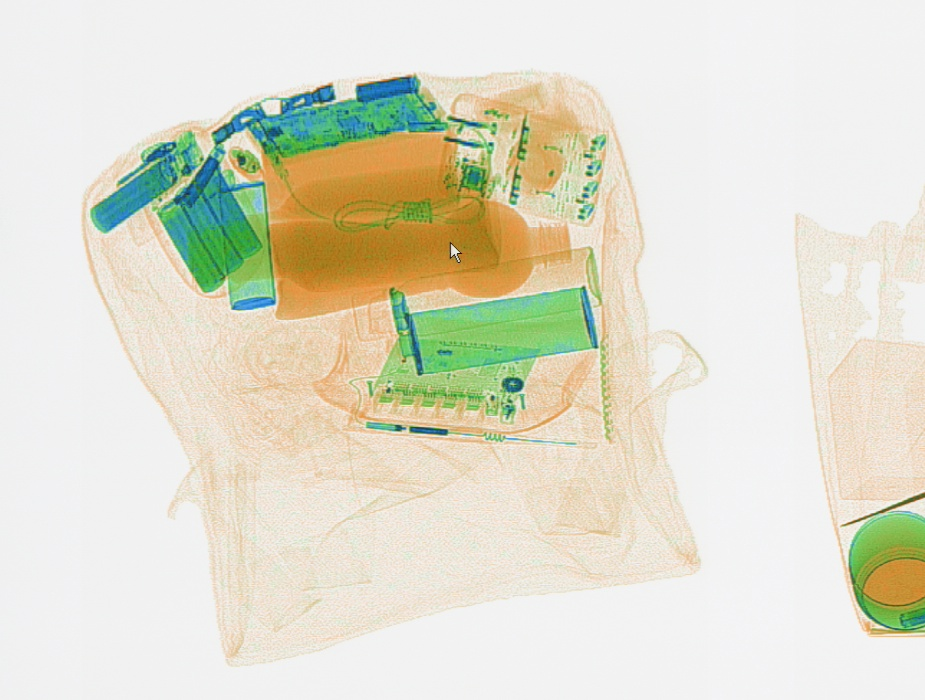powerbank: (143, 158, 267, 296)
zippooil: (400, 283, 598, 377)
